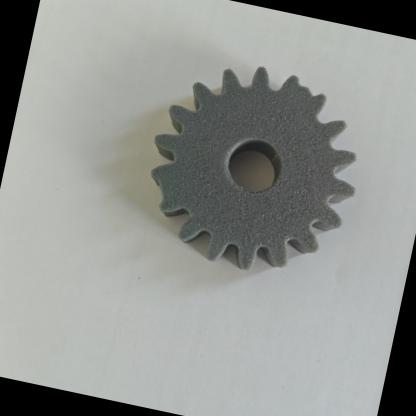defect: (106, 141, 207, 238), (264, 63, 346, 135)
gear: (87, 20, 388, 309)
